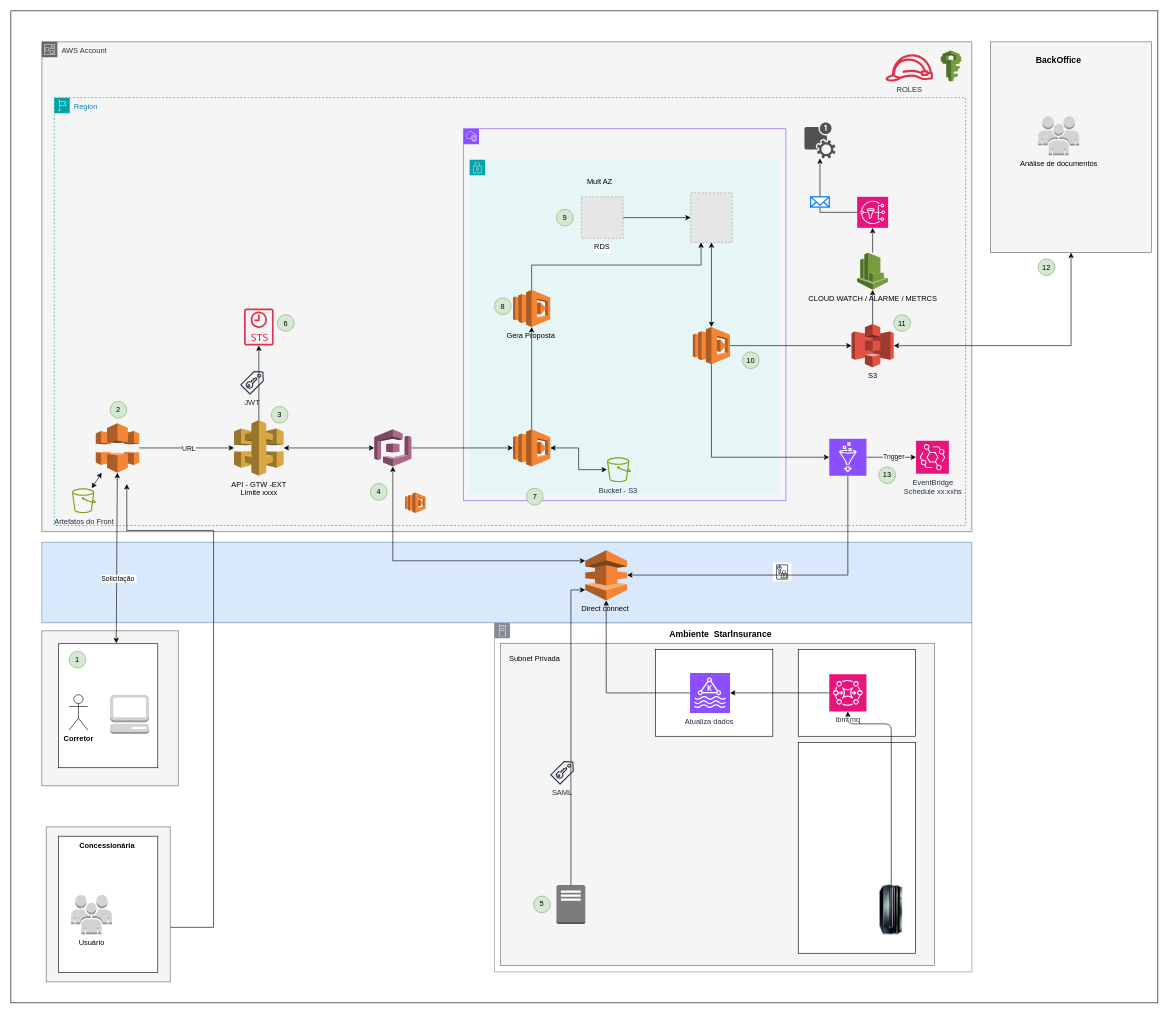
The diagram is 1169 pixels wide and 1014 high, and some of its shapes have lost their labels. Grey dashed boxes stand in for pictures. The shapes that lost their labels are listed below. From the top down, each one's box as (x1, y1, x2, y2) in pixels, then its label:
(940, 50, 961, 82): IAM
(804, 122, 835, 158): Push notification
(857, 196, 888, 228): SNS
(244, 308, 273, 345): JW TOKEN
(463, 128, 786, 501): VPC
(469, 159, 780, 494): Private subnet
(692, 326, 730, 364): Lambda
(95, 423, 139, 473): Cloud Front
(374, 429, 411, 467): Cognito - Autenticação
(512, 429, 550, 467): Gera Cotação
(829, 438, 866, 476): Glue via ETL
(405, 492, 426, 513): Lambda - Trigger
(772, 562, 791, 581): Data encryption
(494, 622, 972, 972): On-Premise
(556, 884, 585, 924): LDAP/base cliente
(866, 885, 916, 934): Mainframe
